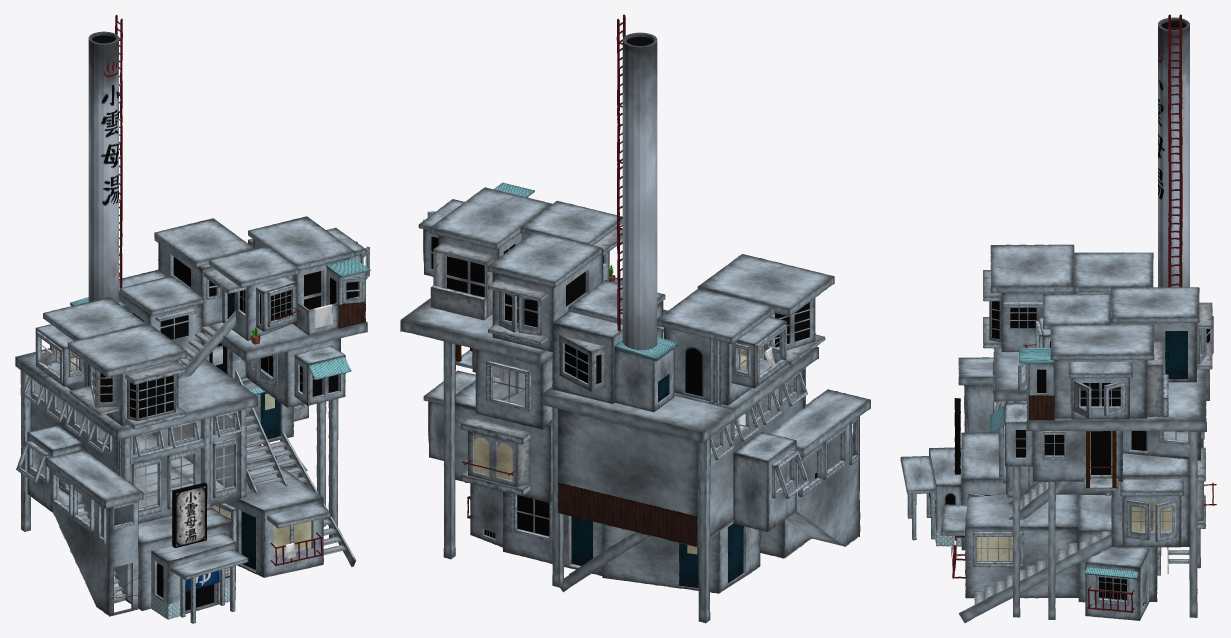
Rendered from kyoju003.glb.
3 views of the same model, side by side, from view 1: azimuth 30°, elevation 25°; view 2: azimuth 150°, elevation 25°; view 3: azimuth 270°, elevation 25° (orthographic). The views are drawn at different scales.
Visible parts, largest first — view 1: Cylinder.002, Plane.158, Plane.135, Plane.169, Plane.372, Plane.368, Plane.154, Plane.166, Plane.138, Plane.366, Plane.373, Plane.198 (+52 smaller); view 2: Plane.158, Cylinder.002, Plane.134, Plane.156, Plane.170, Plane.372, texture.194, Plane.368, Plane.171, Plane.373, Plane.200, Plane.366 (+37 smaller); view 3: Plane.135, Cylinder.002, Plane.372, Plane.198, Plane.173, Plane.368, Plane.142, Plane.177, Plane.366, Plane.373, Plane.132, Plane.012 (+37 smaller).
Boxes of the visible parts, left/top/right/bottom form: Cylinder.002: left=88, top=31, right=118, bottom=302; Plane.158: left=31, top=380, right=241, bottom=523; Plane.135: left=192, top=458, right=323, bottom=577; Plane.169: left=42, top=359, right=257, bottom=440; Plane.372: left=67, top=323, right=187, bottom=377; Plane.368: left=248, top=216, right=355, bottom=269; Plane.154: left=53, top=501, right=109, bottom=615; Plane.166: left=46, top=449, right=143, bottom=509; Plane.138: left=151, top=533, right=235, bottom=618; Plane.366: left=154, top=218, right=254, bottom=267; Plane.373: left=43, top=297, right=145, bottom=340; Plane.198: left=203, top=321, right=367, bottom=362; Plane.158: left=557, top=369, right=805, bottom=547; Cylinder.002: left=622, top=32, right=657, bottom=350; Plane.134: left=602, top=521, right=760, bottom=593; Plane.156: left=733, top=432, right=796, bottom=532; Plane.170: left=542, top=387, right=734, bottom=443; Plane.372: left=697, top=254, right=834, bottom=316; texture.194: left=558, top=482, right=697, bottom=546; Plane.368: left=429, top=187, right=551, bottom=249; Plane.171: left=475, top=349, right=552, bottom=429; Plane.373: left=657, top=288, right=774, bottom=344; Plane.200: left=492, top=249, right=603, bottom=352; Plane.366: left=487, top=231, right=602, bottom=287; Plane.135: left=964, top=494, right=1078, bottom=598; Cylinder.002: left=1158, top=17, right=1189, bottom=287; Plane.372: left=990, top=244, right=1074, bottom=293; Plane.198: left=1026, top=369, right=1206, bottom=431; Plane.173: left=1032, top=431, right=1122, bottom=481; Plane.368: left=1050, top=324, right=1154, bottom=360; Plane.142: left=1111, top=453, right=1190, bottom=547; Plane.177: left=1085, top=548, right=1149, bottom=620; Plane.366: left=1111, top=287, right=1199, bottom=322; Plane.373: left=1074, top=252, right=1153, bottom=292; Plane.132: left=961, top=432, right=1005, bottom=550; Plane.012: left=1168, top=14, right=1182, bottom=287.
Size of the model in its own units: 1.74 by 2.53 by 1.34.
Materials: 5 (2 with a texture image).
